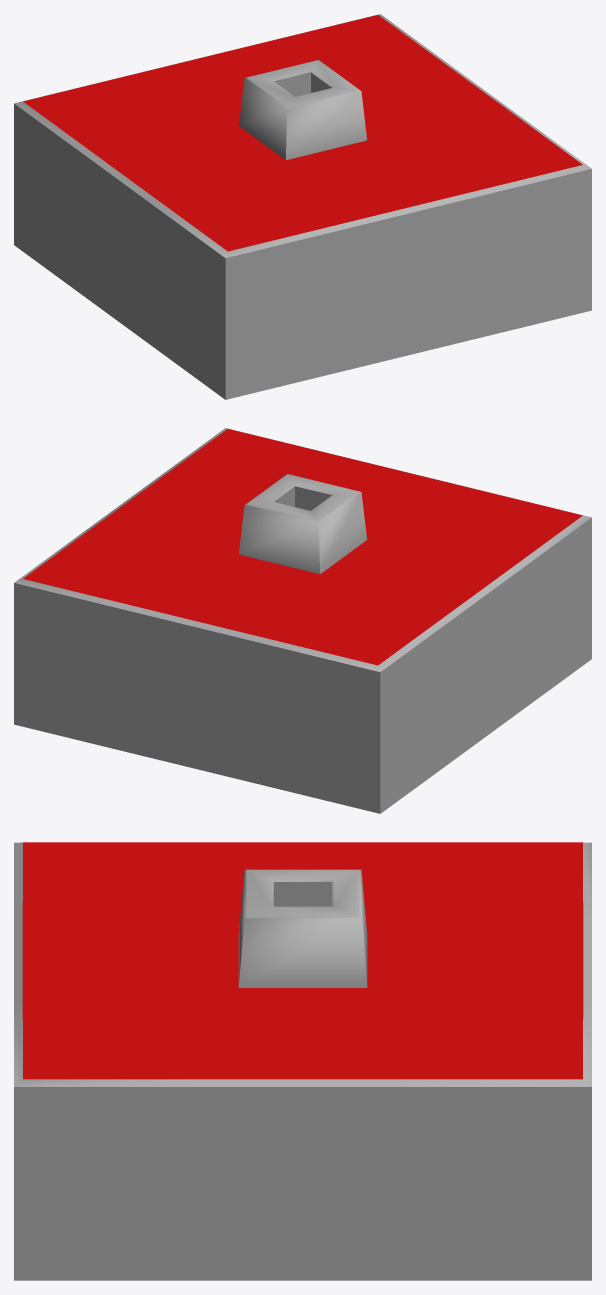
File: block.fbx
3 renders of one model, top to bottom at view 1: azimuth 30°, elevation 25°; view 2: azimuth 150°, elevation 25°; view 3: azimuth 270°, elevation 25°, orthographic. The views are drawn at different scales.
Parts seen in each view (by area): view 1: Mesh02, Mesh01; view 2: Mesh02, Mesh01; view 3: Mesh02, Mesh01.
Boxes of the visible parts, bbox=[...] form: Mesh02: bbox=[14, 14, 591, 399]; Mesh01: bbox=[23, 15, 582, 251]; Mesh02: bbox=[14, 428, 591, 813]; Mesh01: bbox=[23, 429, 582, 665]; Mesh02: bbox=[14, 842, 591, 1280]; Mesh01: bbox=[22, 842, 583, 1079].
Size of the model in its own units: 4 by 2.02 by 4.
